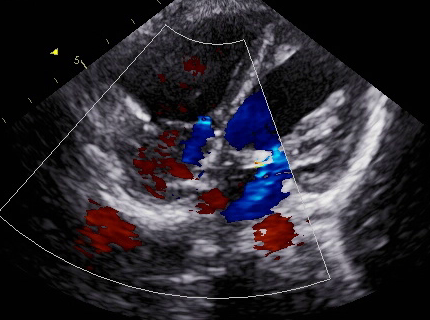TR: (171, 108, 230, 168)
